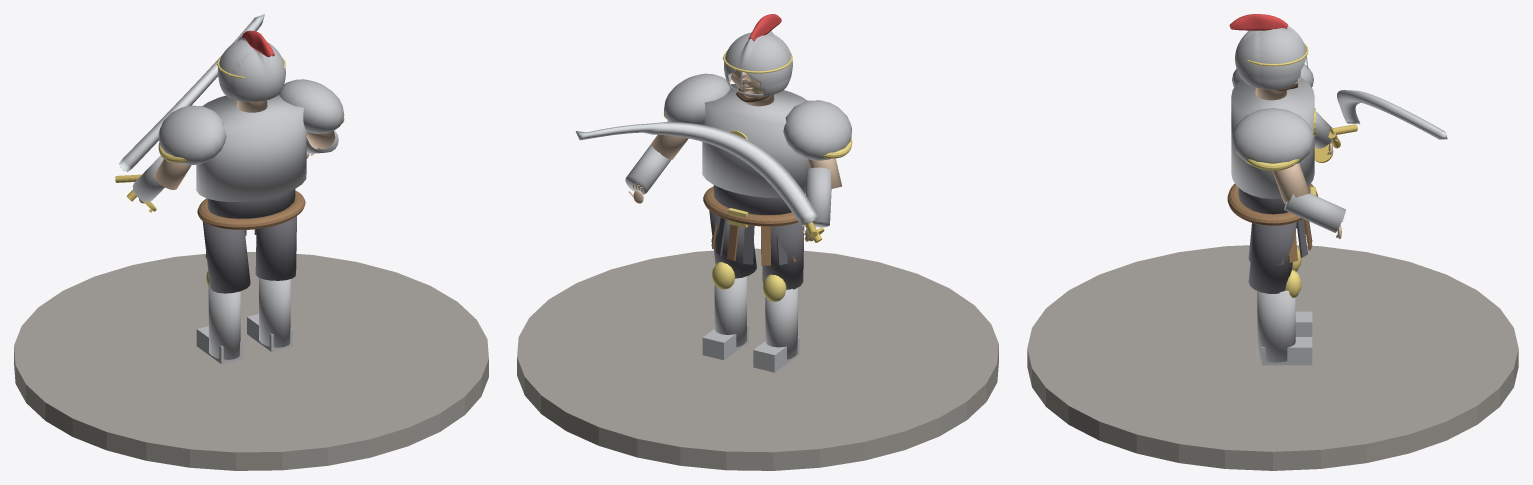
Rendered from warrior_scene.glb.
3 renders of one model, left to right at view 1: azimuth 30°, elevation 25°; view 2: azimuth 150°, elevation 25°; view 3: azimuth 270°, elevation 25°, orthographic. The views are drawn at different scales.
Parts seen in each view (by area): view 1: Stone_Pedestal, Warrior_Cuirass, Warrior_Helmet, Warrior_Pauldron_R, Warrior_Thigh_R, Warrior_Pauldron_L, Warrior_Thigh_L, Warrior_Shin_R, Warrior_Shin_L, Talwar_Blade, Warrior_Belt, Warrior_Ab_Armor (+4 smaller); view 2: Stone_Pedestal, Warrior_Cuirass, Talwar_Blade, Warrior_Pauldron_R, Warrior_Helmet, Warrior_Pauldron_L, Warrior_Thigh_R, Warrior_Shin_R, Warrior_Shin_L, Warrior_Gauntlet_R, Warrior_Ab_Armor, Warrior_Thigh_L (+8 smaller); view 3: Stone_Pedestal, Warrior_Cuirass, Warrior_Pauldron_L, Warrior_Helmet, Warrior_Thigh_L, Warrior_Shin_L, Talwar_Blade, Warrior_Gauntlet_L, Warrior_Belt, Warrior_UpperArm_L, Warrior_Boot_L, Warrior_Helmet_Crest (+1 smaller).
Part boxes in pixels (x1,y1,x2,y2): Stone_Pedestal: [14, 252, 488, 470]; Warrior_Cuirass: [196, 95, 306, 201]; Warrior_Helmet: [218, 36, 285, 102]; Warrior_Pauldron_R: [158, 105, 226, 164]; Warrior_Thigh_R: [202, 221, 250, 293]; Warrior_Pauldron_L: [278, 79, 344, 133]; Warrior_Thigh_L: [255, 216, 296, 280]; Warrior_Shin_R: [208, 283, 240, 359]; Warrior_Shin_L: [259, 278, 290, 347]; Talwar_Blade: [119, 14, 264, 171]; Warrior_Belt: [197, 190, 305, 229]; Warrior_Ab_Armor: [207, 189, 295, 218]; Stone_Pedestal: [517, 248, 998, 470]; Warrior_Cuirass: [702, 84, 809, 197]; Talwar_Blade: [575, 122, 817, 225]; Warrior_Pauldron_R: [783, 100, 851, 160]; Warrior_Helmet: [724, 31, 792, 95]; Warrior_Pauldron_L: [664, 73, 730, 124]; Warrior_Thigh_R: [762, 222, 804, 289]; Warrior_Shin_R: [765, 287, 797, 359]; Warrior_Shin_L: [714, 276, 746, 347]; Warrior_Gauntlet_R: [805, 167, 831, 227]; Warrior_Ab_Armor: [713, 185, 791, 214]; Warrior_Thigh_L: [709, 210, 756, 278]; Stone_Pedestal: [1027, 245, 1518, 470]; Warrior_Cuirass: [1231, 77, 1314, 198]; Warrior_Pauldron_L: [1232, 108, 1313, 164]; Warrior_Helmet: [1235, 26, 1306, 89]; Warrior_Thigh_L: [1248, 222, 1296, 293]; Warrior_Shin_L: [1257, 290, 1295, 362]; Talwar_Blade: [1337, 90, 1447, 139]; Warrior_Gauntlet_L: [1284, 193, 1345, 232]; Warrior_Belt: [1227, 183, 1318, 225]; Warrior_UpperArm_L: [1272, 163, 1309, 203]; Warrior_Boot_L: [1261, 337, 1312, 365]; Warrior_Helmet_Crest: [1229, 14, 1287, 30].
Size of the model in its own units: 2.8 by 2.22 by 2.8.
